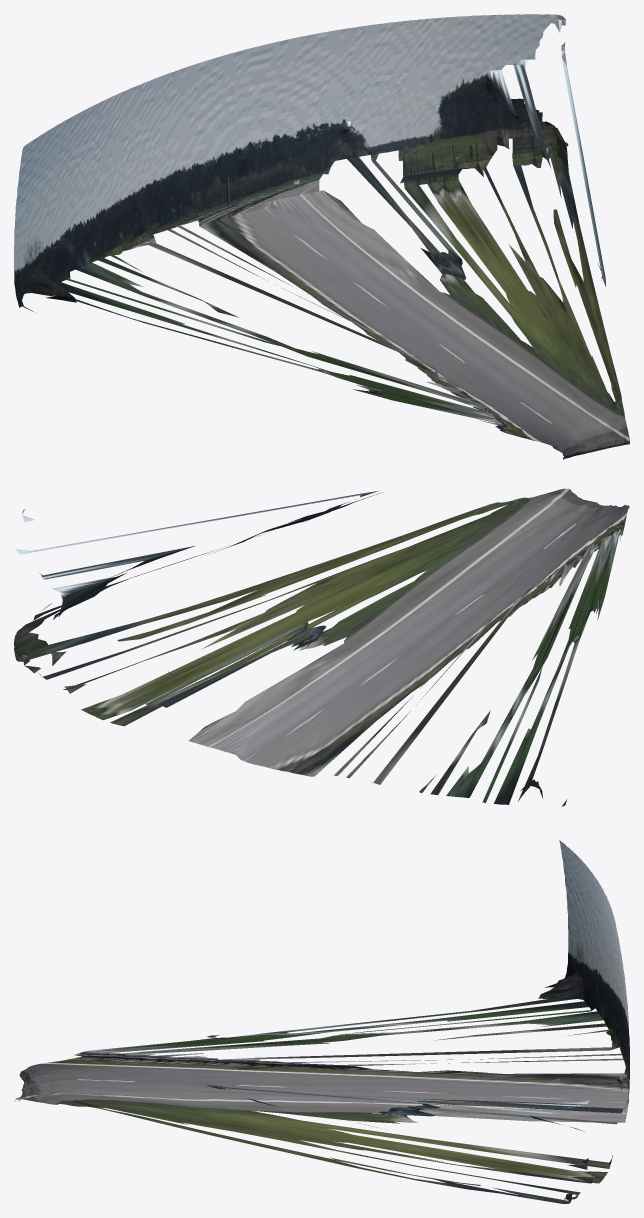
3 views of the same model, one above another, from view 1: azimuth 30°, elevation 25°; view 2: azimuth 150°, elevation 25°; view 3: azimuth 270°, elevation 25° (orthographic). The views are drawn at different scales.
Parts seen in each view (by area): view 1: defaultobject; view 2: defaultobject; view 3: defaultobject.
Boxes of the visible parts, <box> form: defaultobject: <box>14,14,629,459</box>; defaultobject: <box>14,488,629,806</box>; defaultobject: <box>14,840,629,1203</box>.
Size of the model in its own units: 40.97 by 12.64 by 44.73.
1 material, 1 textured.
